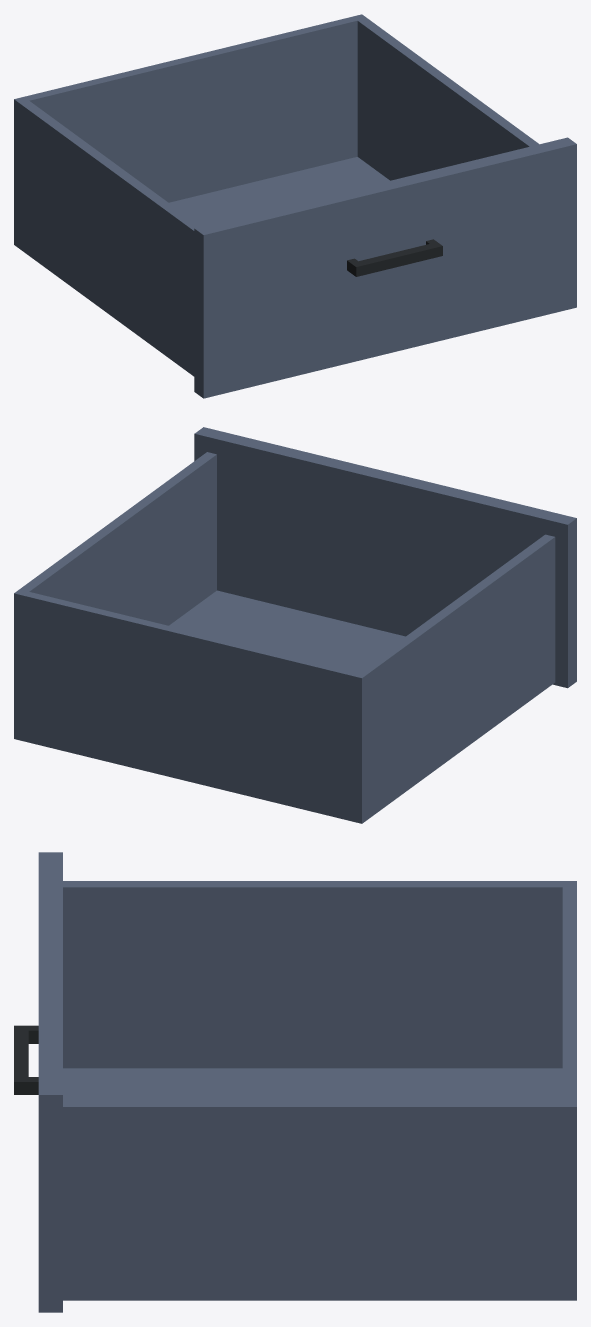
The model's file is Door1_C4_05.fbx.
3 renders of one model, top to bottom at view 1: azimuth 30°, elevation 25°; view 2: azimuth 150°, elevation 25°; view 3: azimuth 270°, elevation 25°, orthographic. The views are drawn at different scales.
Visible parts, largest first — view 1: Door1_C4_05; view 2: Door1_C4_05; view 3: Door1_C4_05.
Part boxes in pixels (box(x1,y1,x2,y2)): Door1_C4_05: box(14, 14, 576, 398); Door1_C4_05: box(14, 427, 576, 823); Door1_C4_05: box(14, 852, 576, 1312).
Size of the model in its own units: 59 by 24.68 by 57.89.
